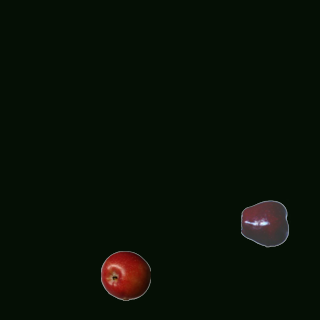Apple Braeburn: (100, 250, 150, 300)
Apple Red Delicious: (240, 198, 290, 248)
